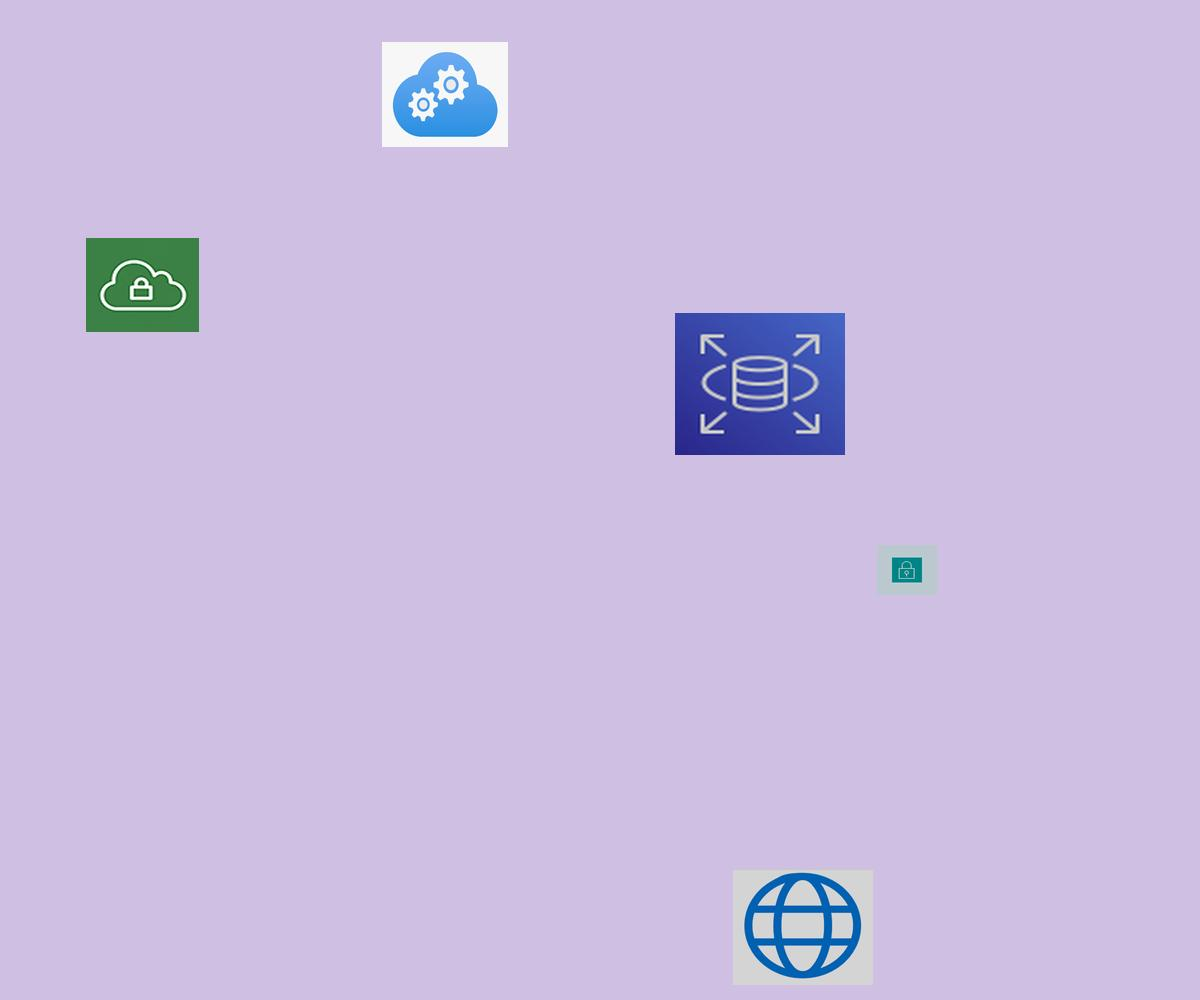AWS-Private-subnet: (877, 545, 937, 595)
AWS-Private_vpc: (86, 238, 199, 332)
AWS-RDS: (675, 313, 845, 455)
Azure_cloud_services: (382, 42, 508, 147)
Azure_http: (733, 869, 873, 985)
